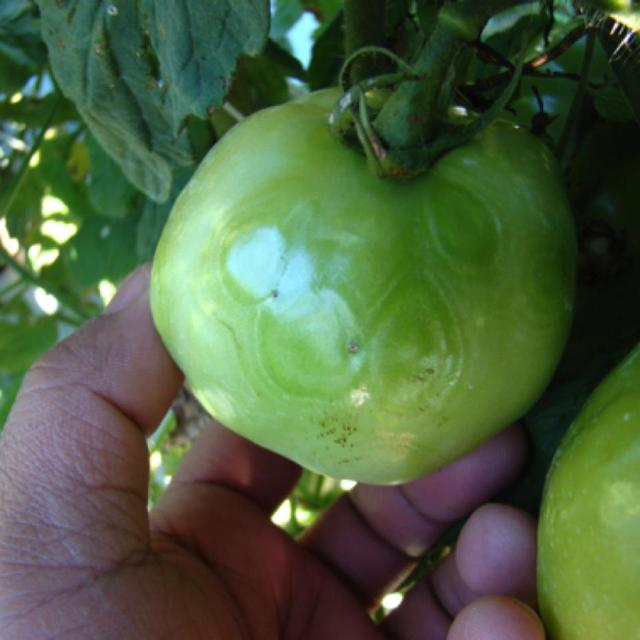Spotted wilt Virus Fruit: (100, 54, 389, 326)
